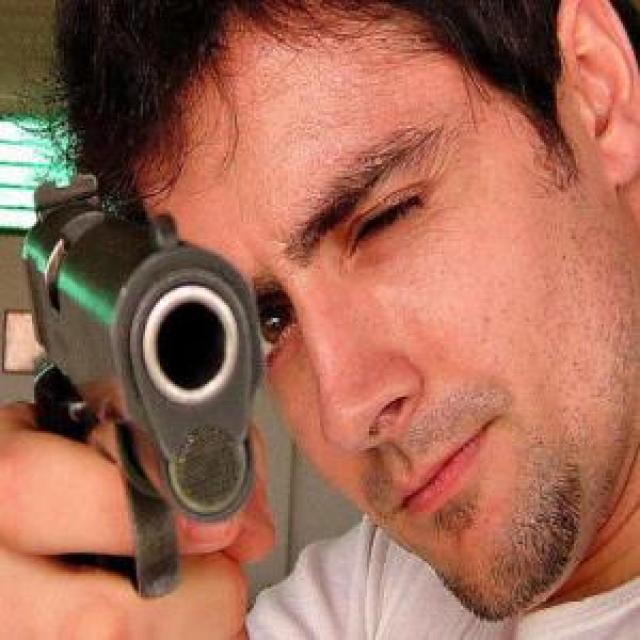pistol: (21, 175, 254, 599)
